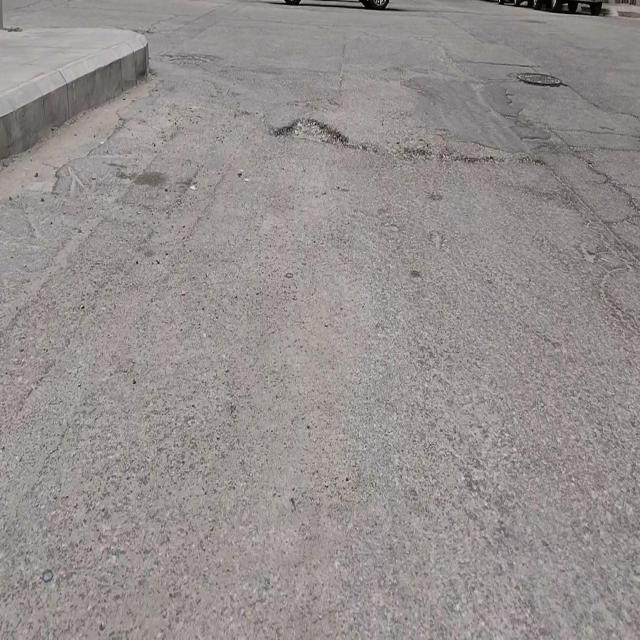Pothole: (271, 112, 353, 150)
